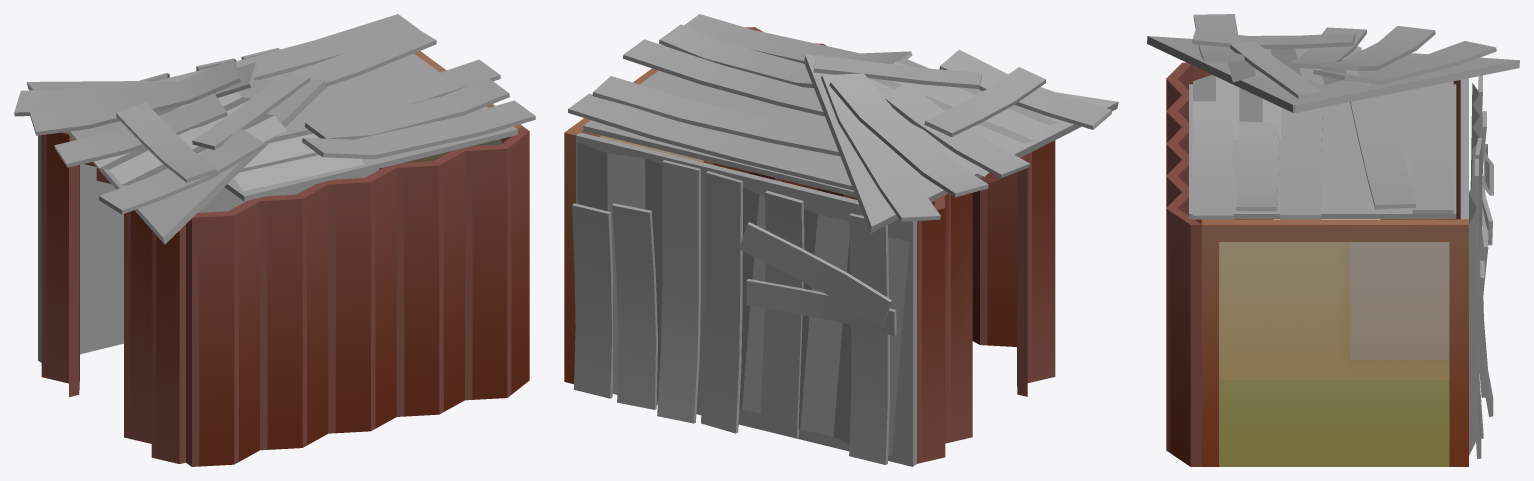
File: Environment_OpenHouse_03.fbx
3 renders of one model, left to right at view 1: azimuth 30°, elevation 25°; view 2: azimuth 150°, elevation 25°; view 3: azimuth 270°, elevation 25°, orthographic. The views are drawn at different scales.
Visible parts, largest first — view 1: Environment_RifledWall_01, Environment_WoodenShackTiltedRoof_01, Environment_WoodenShackCornerRoof_06, Environment_RifledDoorway_01, Environment_WoodenShackCorner_01, Environment_Wall_06; view 2: Environment_WoodenShackCorner_01, Environment_WoodenShackCornerRoof_06, Environment_WoodenShackTiltedRoof_01, Environment_RifledDoorway_01, Environment_RifledWall_01, Environment_Wall_06; view 3: Environment_Wall_06, Environment_WoodenShackTiltedRoof_01, Environment_WoodenShackCornerRoof_06, Environment_RifledWall_01, Environment_WoodenShackCorner_01, Environment_RifledDoorway_01.
Part boxes in pixels (x1,y1,x2,y2): Environment_RifledWall_01: (186, 127, 529, 466); Environment_WoodenShackTiltedRoof_01: (157, 14, 535, 201); Environment_WoodenShackCornerRoof_06: (14, 59, 326, 244); Environment_RifledDoorway_01: (41, 132, 185, 463); Environment_WoodenShackCorner_01: (38, 48, 378, 362); Environment_Wall_06: (379, 51, 523, 169); Environment_WoodenShackCorner_01: (572, 132, 916, 466); Environment_WoodenShackCornerRoof_06: (804, 49, 1118, 233); Environment_WoodenShackTiltedRoof_01: (568, 14, 912, 197); Environment_RifledDoorway_01: (917, 140, 1055, 463); Environment_RifledWall_01: (713, 27, 1016, 346); Environment_Wall_06: (564, 68, 713, 384); Environment_Wall_06: (1201, 219, 1468, 466); Environment_WoodenShackTiltedRoof_01: (1189, 75, 1456, 219); Environment_WoodenShackCornerRoof_06: (1147, 14, 1519, 112); Environment_RifledWall_01: (1166, 62, 1201, 466); Environment_WoodenShackCorner_01: (1460, 75, 1493, 458); Environment_RifledDoorway_01: (1193, 66, 1460, 224).
Bounding box in the file's own units: 358 × 249 × 279.
